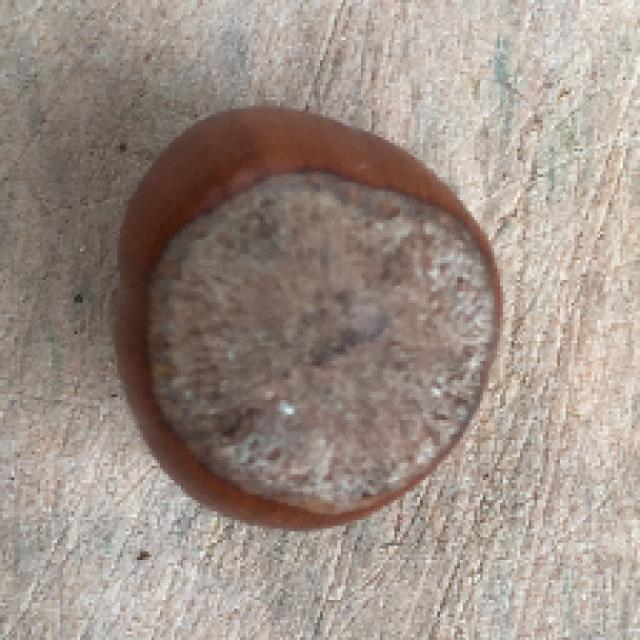QualityHazelnut: (116, 104, 506, 536)
